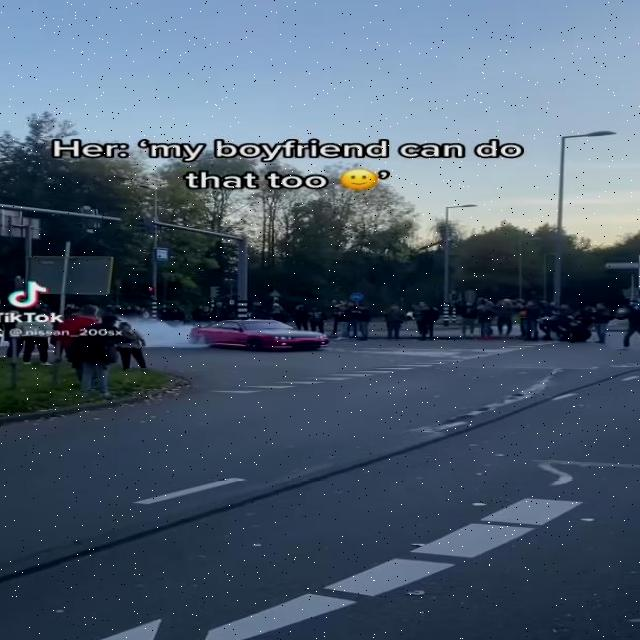car: (192, 314, 332, 355)
